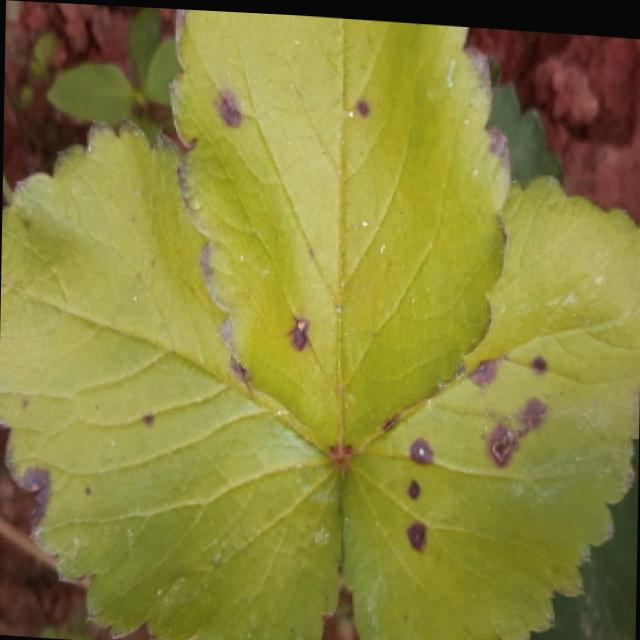Leaf Spot: (0, 111, 344, 640), (167, 7, 510, 464), (341, 166, 640, 640)
